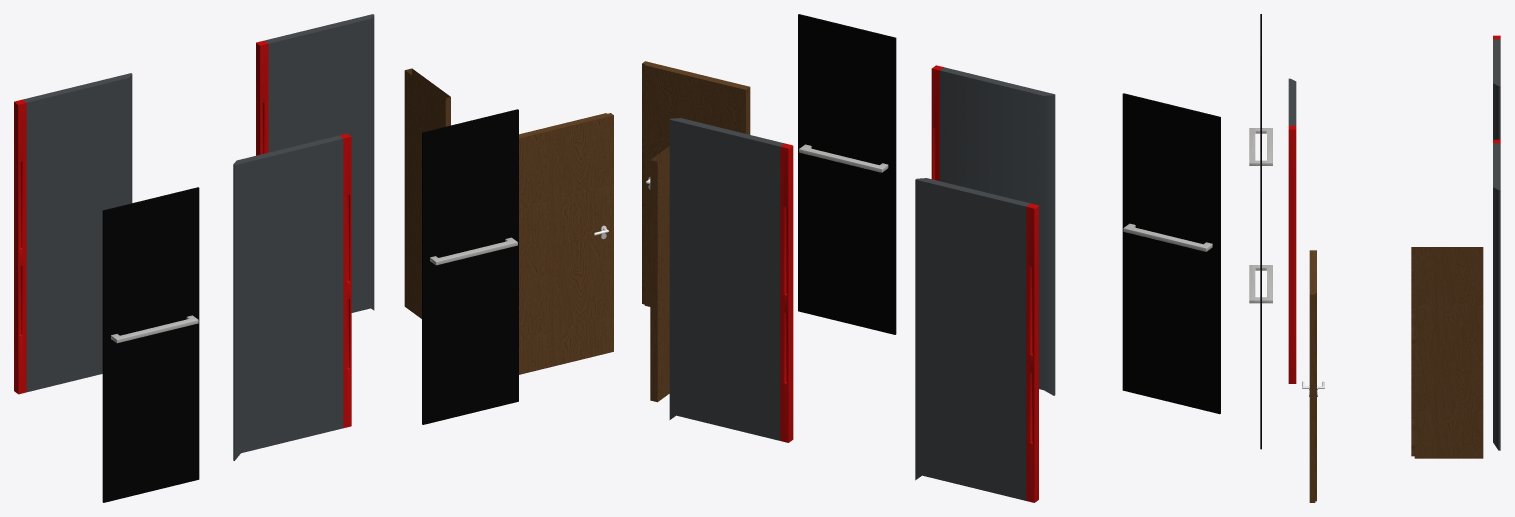
File: TheMuraka_Cinema4D_Doors.fbx
3 renders of one model, left to right at view 1: azimuth 30°, elevation 25°; view 2: azimuth 150°, elevation 25°; view 3: azimuth 270°, elevation 25°, orthographic. The views are drawn at different scales.
Parts seen in each view (by area): view 1: slide_door, slide_door_2, door_toilet_3, door_toilet_2, door, slide_door_3, entrance_door_2, handle_outer_2, handle_outer; view 2: slide_door_3, slide_door_2, door_toilet_3, door_toilet_2, slide_door, door, entrance_door_2, handle_outer_2, handle_outer; view 3: entrance_door_2, slide_door, slide_door_3, door, slide_door_2, handle_outer, handle_outer_2, door_toilet_2.
Boxes of the visible parts, x1,y1,x2,y2 form: slide_door: (233,133,351,460); slide_door_2: (14,73,132,394); door_toilet_3: (102,187,199,502); door_toilet_2: (422,109,518,424); door: (519,113,613,374); slide_door_3: (256,14,374,312); entrance_door_2: (404,68,450,318); handle_outer_2: (111,315,198,343); handle_outer: (430,237,517,265); slide_door_3: (669,118,793,442); slide_door_2: (915,178,1038,502); door_toilet_3: (1122,93,1220,414); door_toilet_2: (798,14,896,334); slide_door: (931,65,1055,395); door: (642,61,750,306); entrance_door_2: (650,146,669,402); handle_outer_2: (1123,223,1212,251); handle_outer: (799,144,888,172); entrance_door_2: (1411,247,1483,458); slide_door: (1288,78,1296,383); slide_door_3: (1493,139,1500,450); door: (1309,250,1316,502); slide_door_2: (1493,35,1500,139); handle_outer: (1249,265,1272,303); handle_outer_2: (1249,128,1272,165); door_toilet_2: (1260,151,1261,449).
Size of the model in its own units: 457 by 242 by 210.
